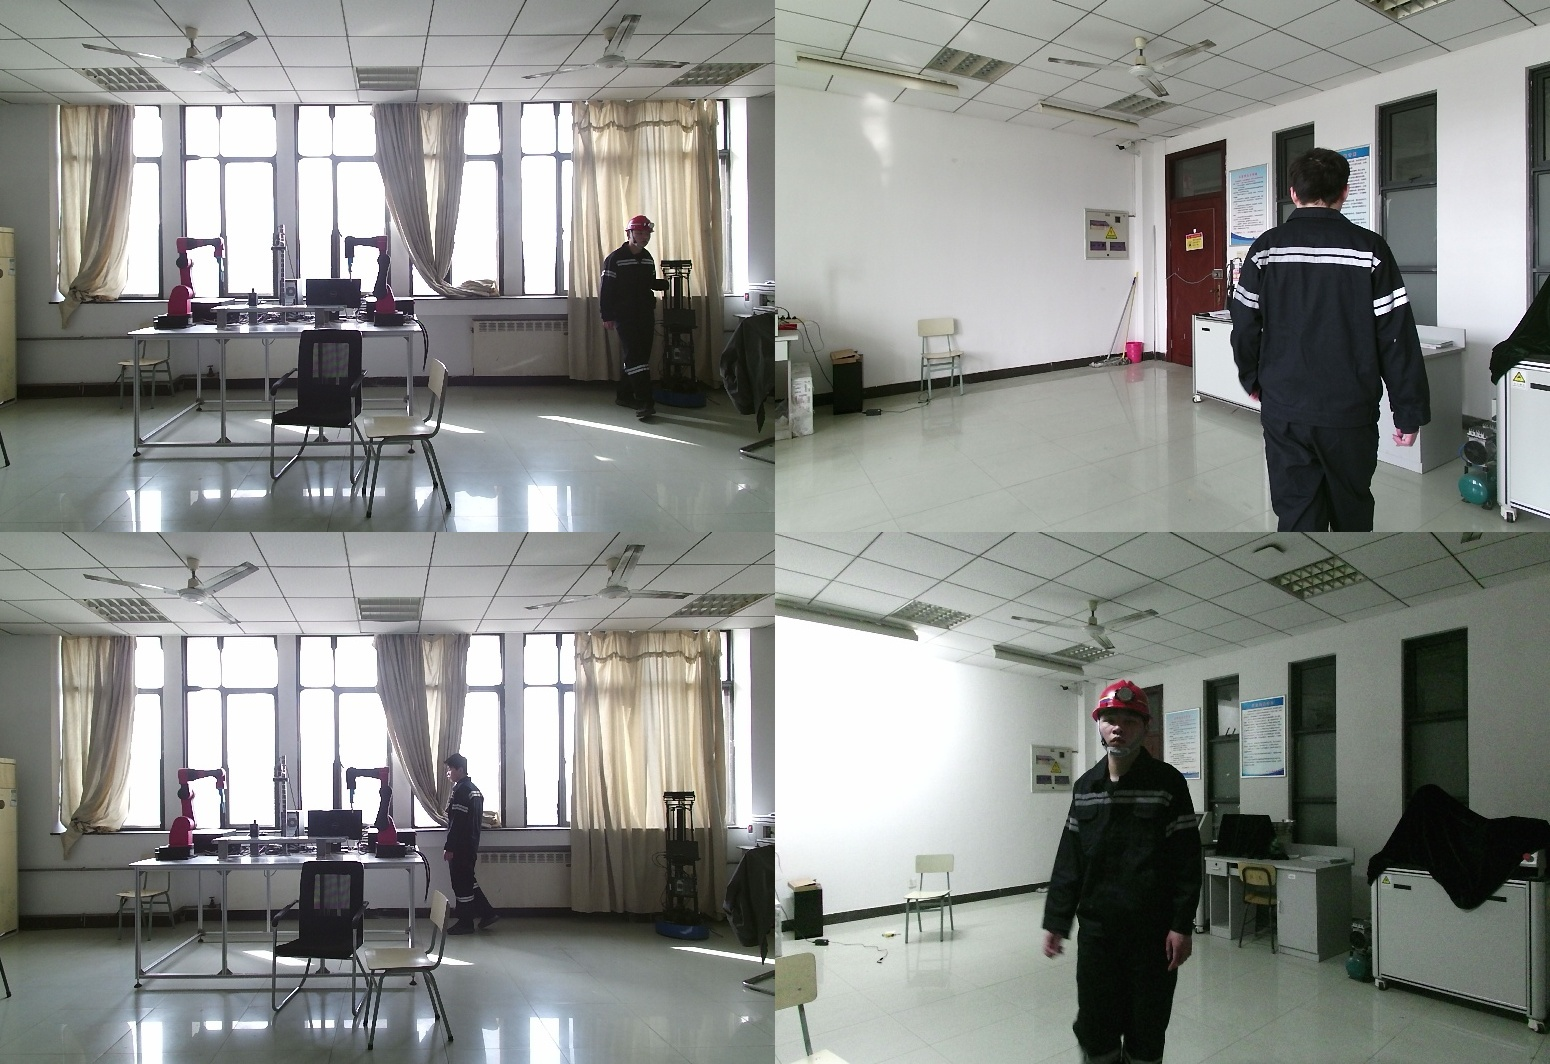person: (1235, 148, 1449, 532), (1040, 682, 1217, 1064), (599, 215, 672, 422), (445, 752, 503, 941)
